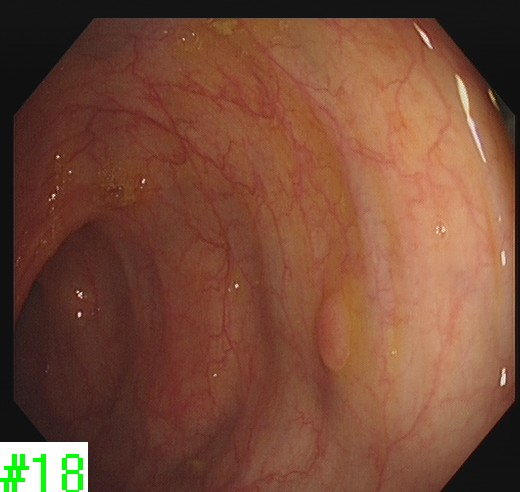adenoma: (311, 289, 355, 375)
